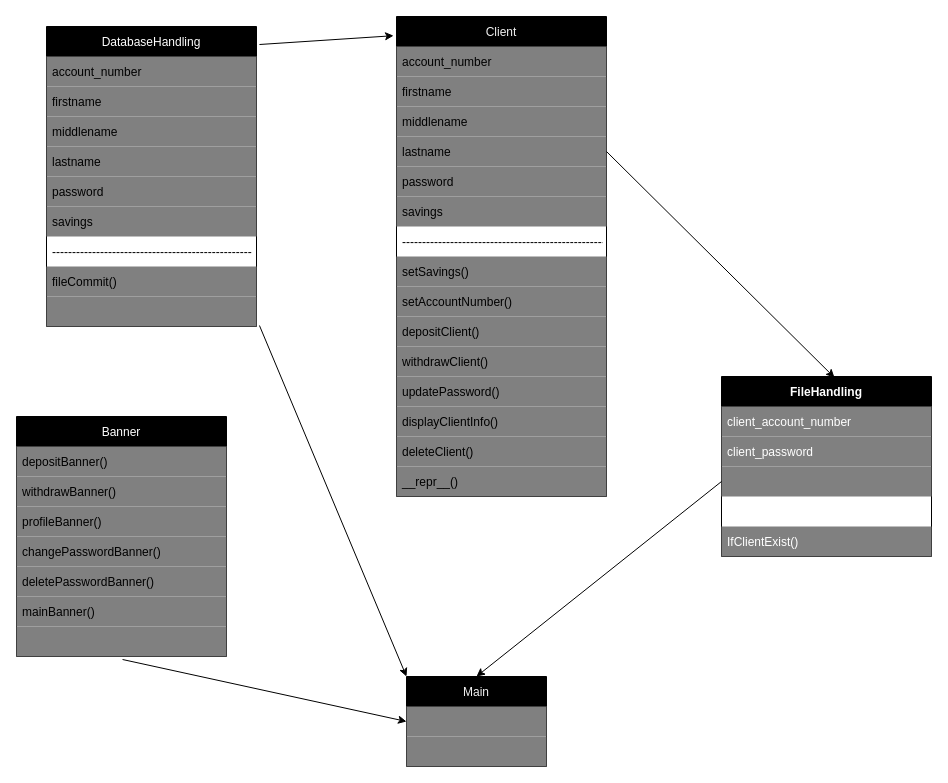
This 948x783 diagram has some shape labels left out. The centre of each missing label's shape, as x and y in pixels:
"App()" belongs at [476,721].
"client_info[]" belongs at [826,481].
"createAcc()" belongs at [121,641].
"createClient()" belongs at [151,311].
"run()" belongs at [476,751].
